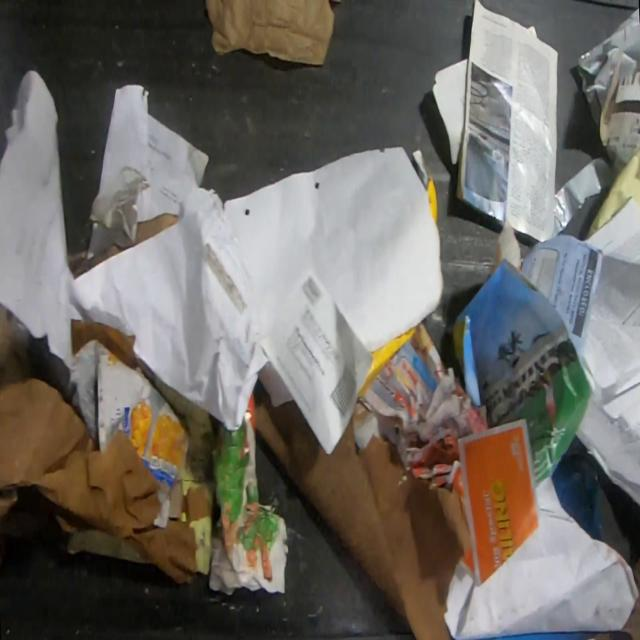cardboard: (0, 301, 197, 587), (69, 338, 190, 529), (208, 388, 290, 596), (151, 369, 217, 578), (599, 42, 639, 177), (358, 326, 419, 400), (432, 56, 468, 166), (66, 528, 154, 567), (411, 148, 438, 227), (67, 243, 126, 279), (134, 212, 180, 246), (526, 24, 538, 39)
soft_plastic: (576, 6, 640, 134), (548, 158, 602, 240)
